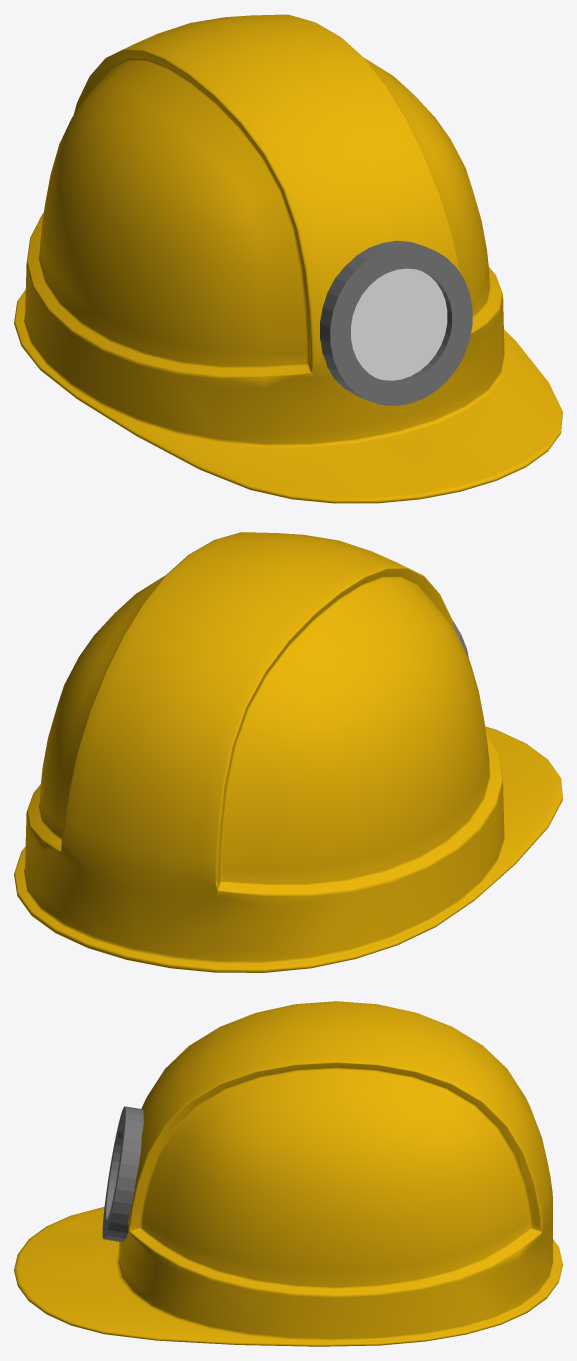
Rendered from kask.fbx.
3 views of the same model, one above another, from view 1: azimuth 30°, elevation 25°; view 2: azimuth 150°, elevation 25°; view 3: azimuth 270°, elevation 25° (orthographic). The views are drawn at different scales.
Visible parts, largest first — view 1: Cube.001, Okrąg, Okrąg.001; view 2: Cube.001; view 3: Cube.001, Okrąg.
Boxes of the visible parts, x1=… form: Cube.001: x1=14, y1=14, x2=562, y2=503; Okrąg: x1=320, y1=240, x2=472, y2=405; Okrąg.001: x1=351, y1=268, x2=447, y2=380; Cube.001: x1=14, y1=532, x2=562, y2=972; Cube.001: x1=14, y1=1001, x2=562, y2=1346; Okrąg: x1=102, y1=1106, x2=143, y2=1242.
Size of the model in its own units: 180 by 130 by 261.
